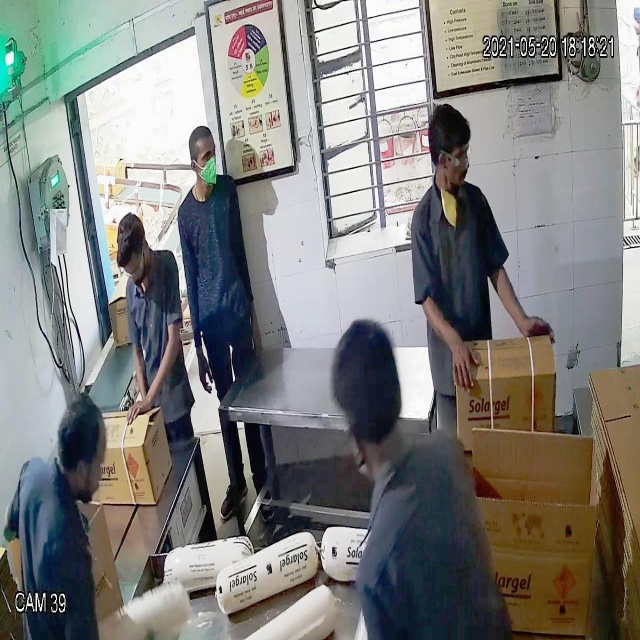Gafas: (431, 146, 479, 172), (119, 248, 146, 280)
Sin_gafas: (187, 143, 220, 172)
